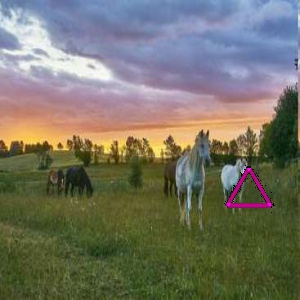triangle: (222, 164, 276, 212)
